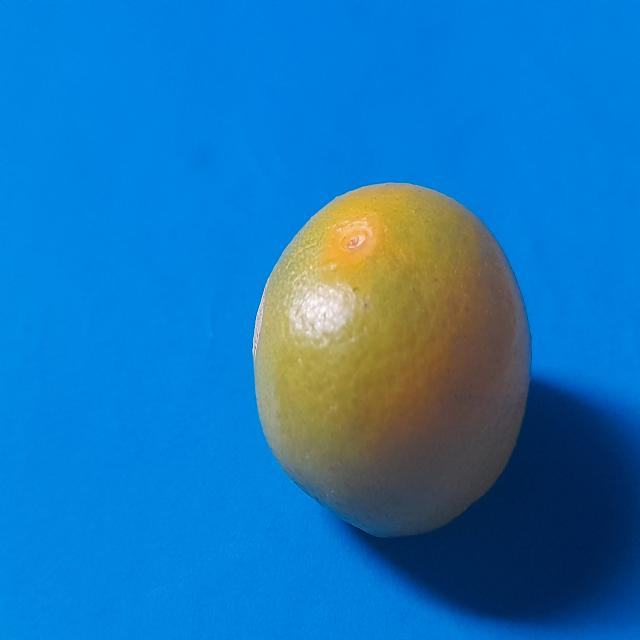greening: (247, 172, 541, 544)
